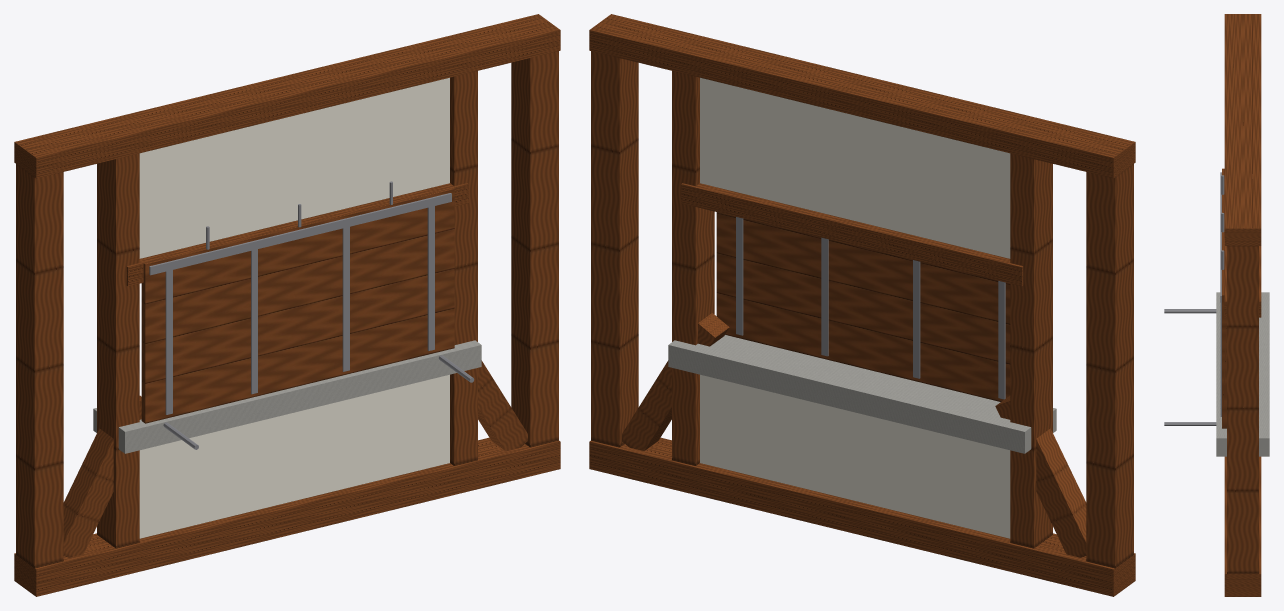
File: blacksmith-forge-and-armoury-blacksmith-forge-and-armo-84dcb3e5__37556.glb
3 renders of one model, left to right at view 1: azimuth 30°, elevation 25°; view 2: azimuth 150°, elevation 25°; view 3: azimuth 270°, elevation 25°, orthographic. The views are drawn at different scales.
Visible parts, largest first — view 1: blacksmith-forge-and-armoury-shutter-counter-front, shutter/timber, shutter/iron; view 2: blacksmith-forge-and-armoury-shutter-counter-front, shutter/timber, shutter/iron; view 3: blacksmith-forge-and-armoury-shutter-counter-front, shutter/timber, shutter/iron.
Boxes of the visible parts, bbox=[...] form: blacksmith-forge-and-armoury-shutter-counter-front: bbox=[14, 14, 560, 596]; shutter/timber: bbox=[141, 188, 454, 423]; shutter/iron: bbox=[149, 193, 451, 414]; blacksmith-forge-and-armoury-shutter-counter-front: bbox=[589, 14, 1135, 596]; shutter/timber: bbox=[716, 212, 1010, 401]; shutter/iron: bbox=[736, 217, 1005, 399]; blacksmith-forge-and-armoury-shutter-counter-front: bbox=[1164, 14, 1269, 596]; shutter/timber: bbox=[1222, 168, 1226, 428]; shutter/iron: bbox=[1220, 172, 1221, 416].
Size of the model in its own units: 4 by 3.2 by 0.8299.
4 materials, 2 textured.
